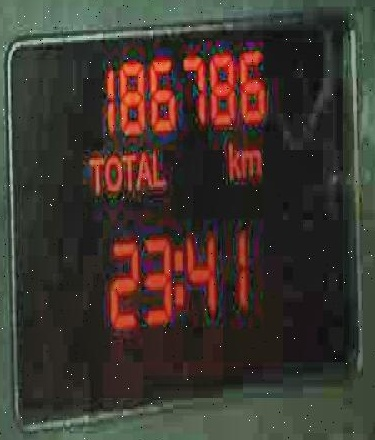1: (234, 227, 248, 307), (102, 64, 115, 133)
2: (106, 233, 139, 331)
3: (141, 233, 170, 326)
4: (185, 231, 216, 315)
6: (148, 55, 175, 131), (239, 49, 265, 124)
7: (180, 53, 205, 126)
8: (118, 57, 145, 133), (208, 51, 235, 124)
X: (171, 247, 184, 307), (85, 153, 104, 193), (240, 144, 260, 177), (104, 153, 120, 191), (120, 151, 136, 189), (136, 151, 150, 189), (150, 149, 164, 187), (226, 140, 239, 178)
